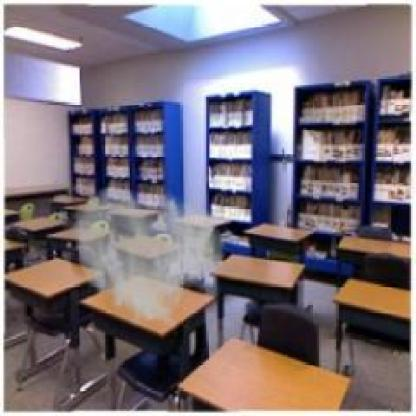Smoke: (69, 185, 226, 330)
